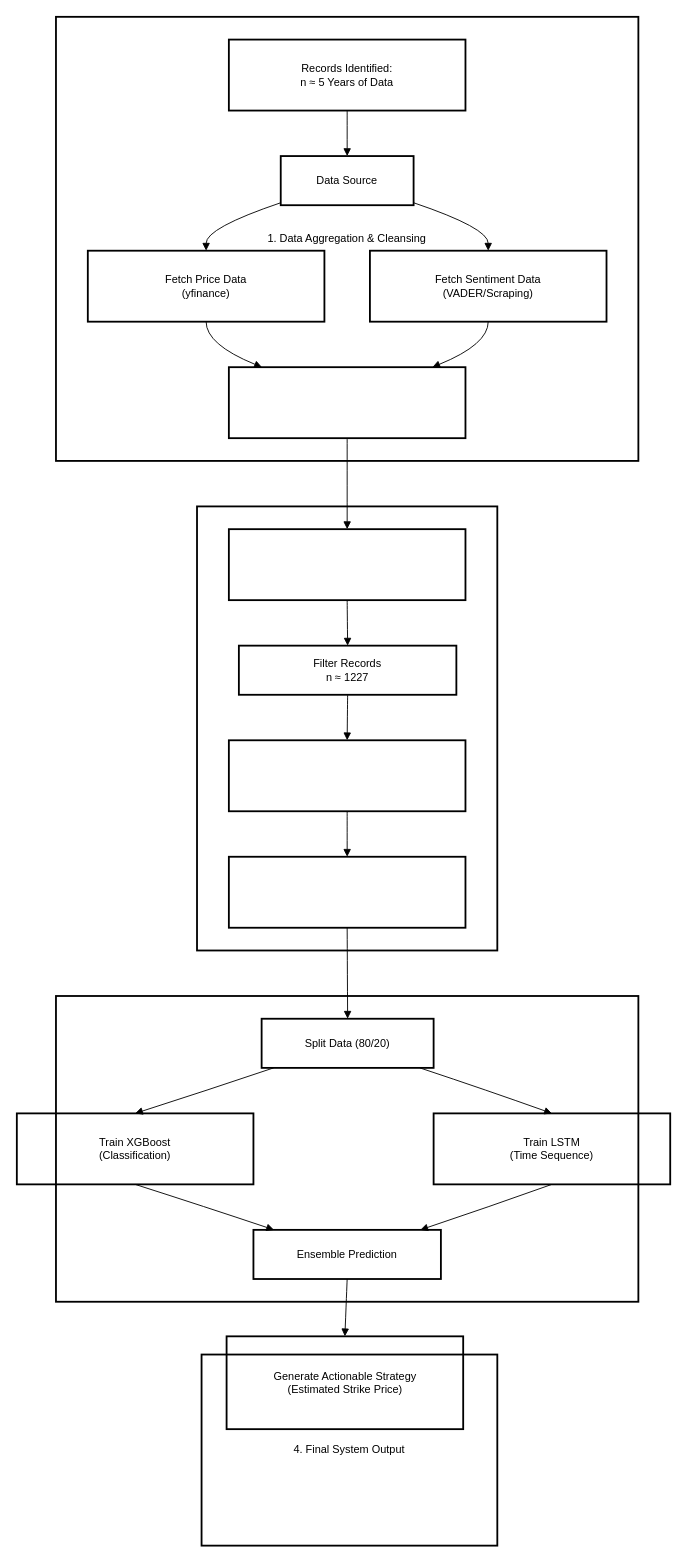
Some shapes in this 686 by 1562 pixel diagram are drawn without their labels. Here are the shapes that lost their labels. From the top down, the box of each, then its label:
(228, 366, 466, 439): Raw Data (OHLCV, Sentiment)
(228, 528, 466, 601): Calculate Features (RSI, MACD, OB, FVG, IV)
(196, 505, 498, 951): 2. Feature Engineering & Selection
(228, 739, 466, 812): Create Target Label (Buy/Sell/Hold)
(228, 855, 466, 928): Final Enhanced Dataset (n=1227)
(55, 995, 639, 1302): 3. Model Training & Validation
